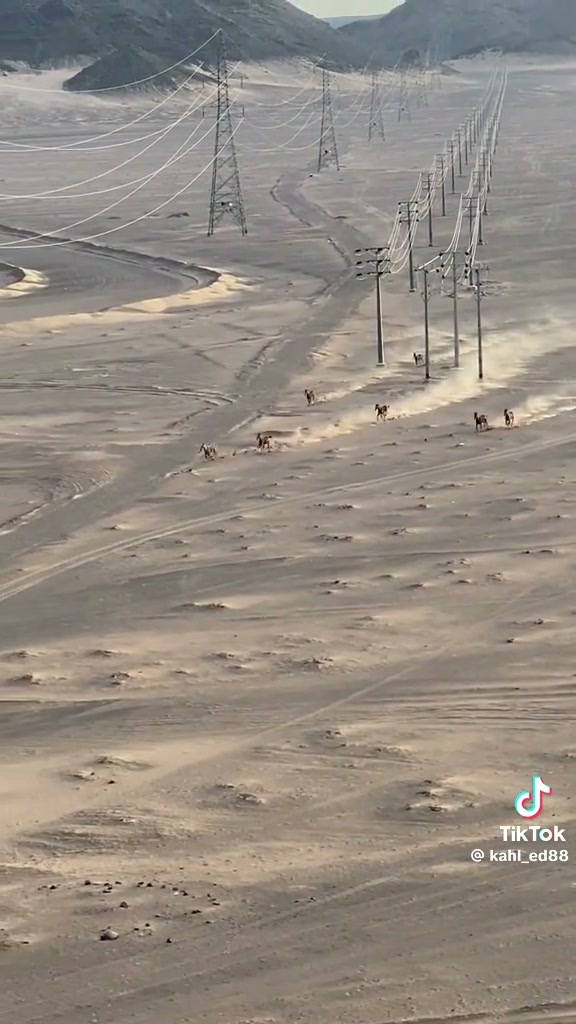animal: (199, 444, 216, 460), (474, 412, 488, 431), (256, 433, 271, 450), (375, 403, 388, 420), (304, 389, 315, 406), (413, 352, 424, 367), (504, 409, 513, 427)
vehicle_track: (223, 637, 459, 758), (0, 502, 267, 601)
